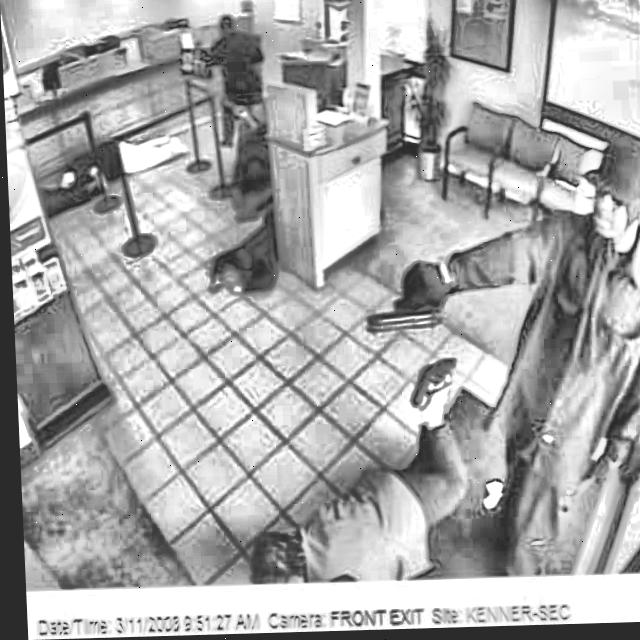pistol: (348, 250, 457, 338)
robbery: (245, 111, 640, 581)
